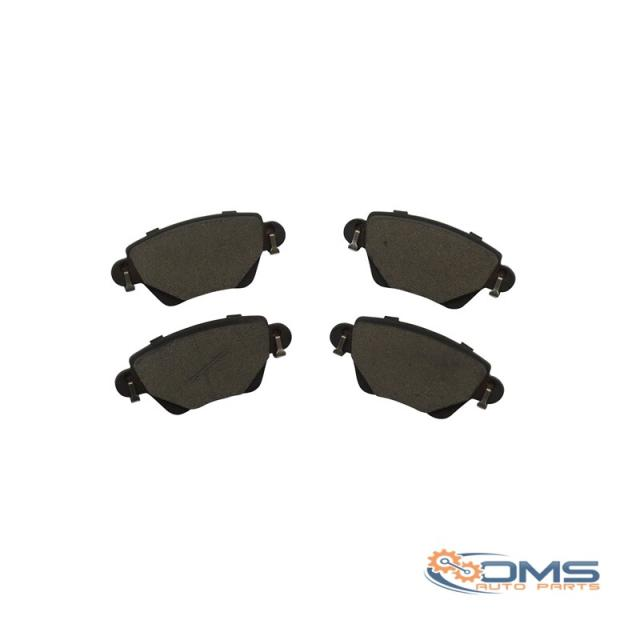brake_pad: (332, 316, 530, 431), (98, 310, 300, 422), (342, 205, 531, 311), (96, 207, 292, 309)
